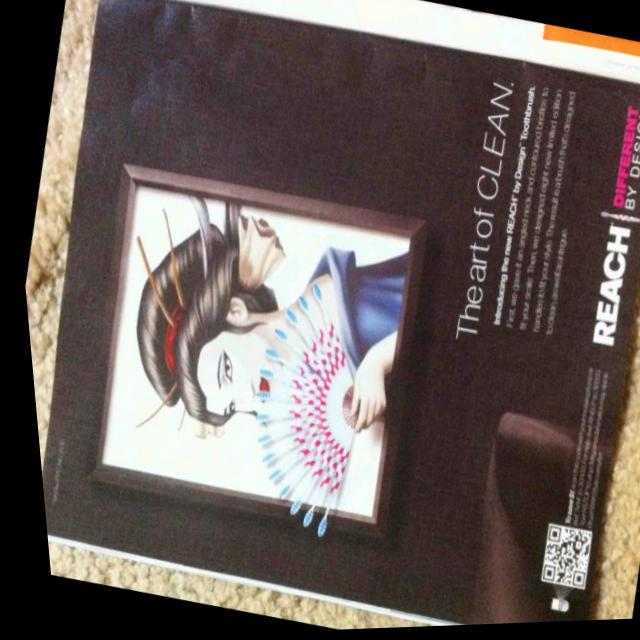qrcode: (529, 529, 584, 592)
